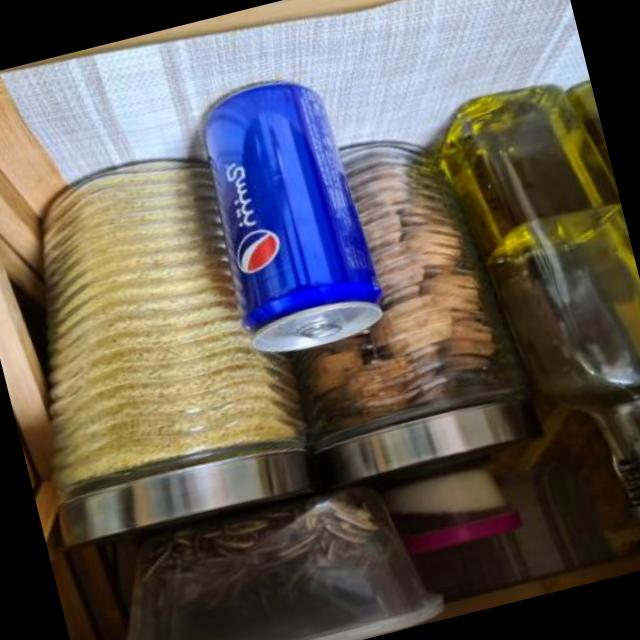metal: (205, 83, 382, 351)
